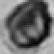correct: (6, 0, 52, 48)
